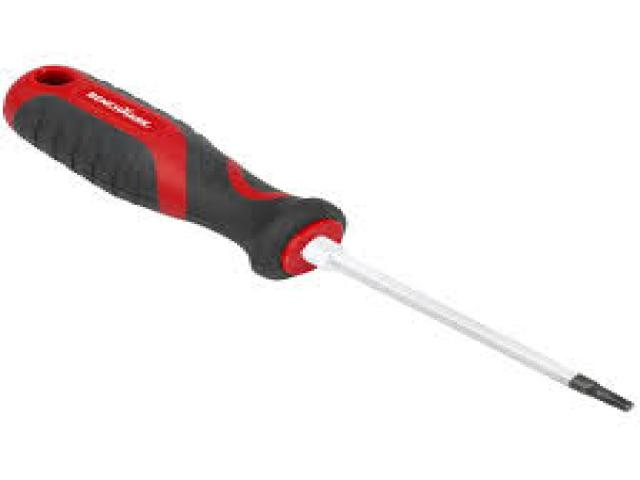Screwdriver: (3, 67, 633, 410)
